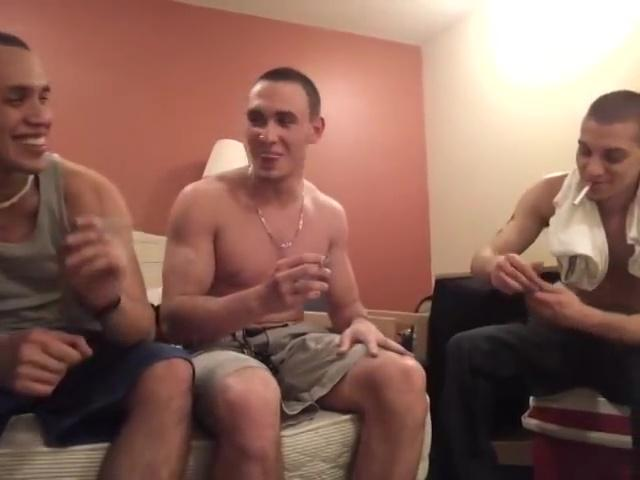cigarette: (567, 179, 597, 206)
